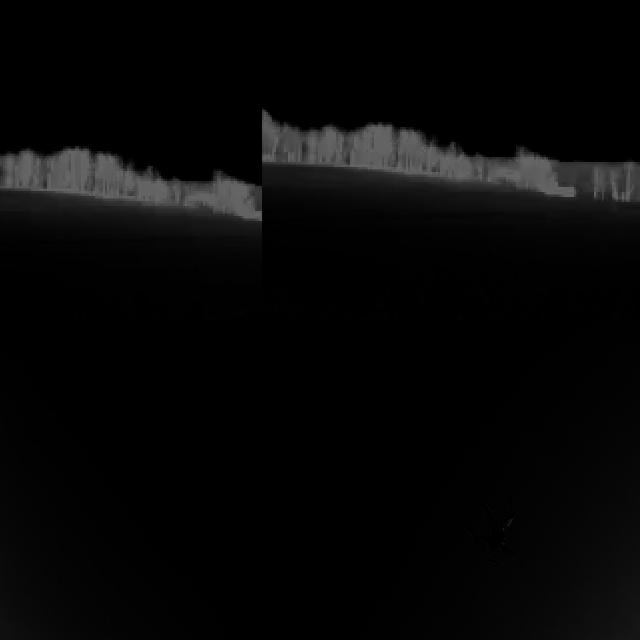drone: (469, 478, 520, 573)
